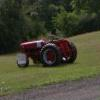Tractor: (13, 25, 81, 69)
